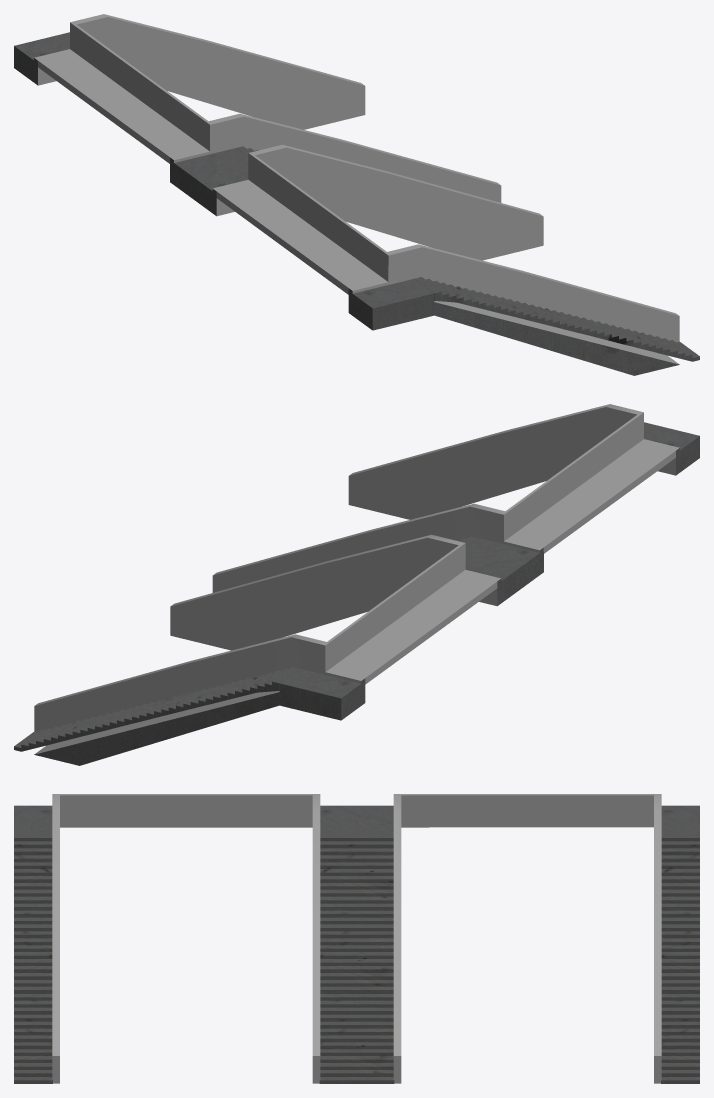
The model's file is Hall_Stairs01.fbx.
3 views of the same model, one above another, from view 1: azimuth 30°, elevation 25°; view 2: azimuth 150°, elevation 25°; view 3: azimuth 270°, elevation 25° (orthographic). The views are drawn at different scales.
Visible parts, largest first — view 1: Hall_Stairs01; view 2: Hall_Stairs01; view 3: Hall_Stairs01.
Boxes of the visible parts, x1,y1,x2,y2 form: Hall_Stairs01: (14, 14, 699, 375); Hall_Stairs01: (14, 404, 699, 765); Hall_Stairs01: (14, 794, 699, 1083).
Size of the model in its own units: 1065 by 501 by 2023.
